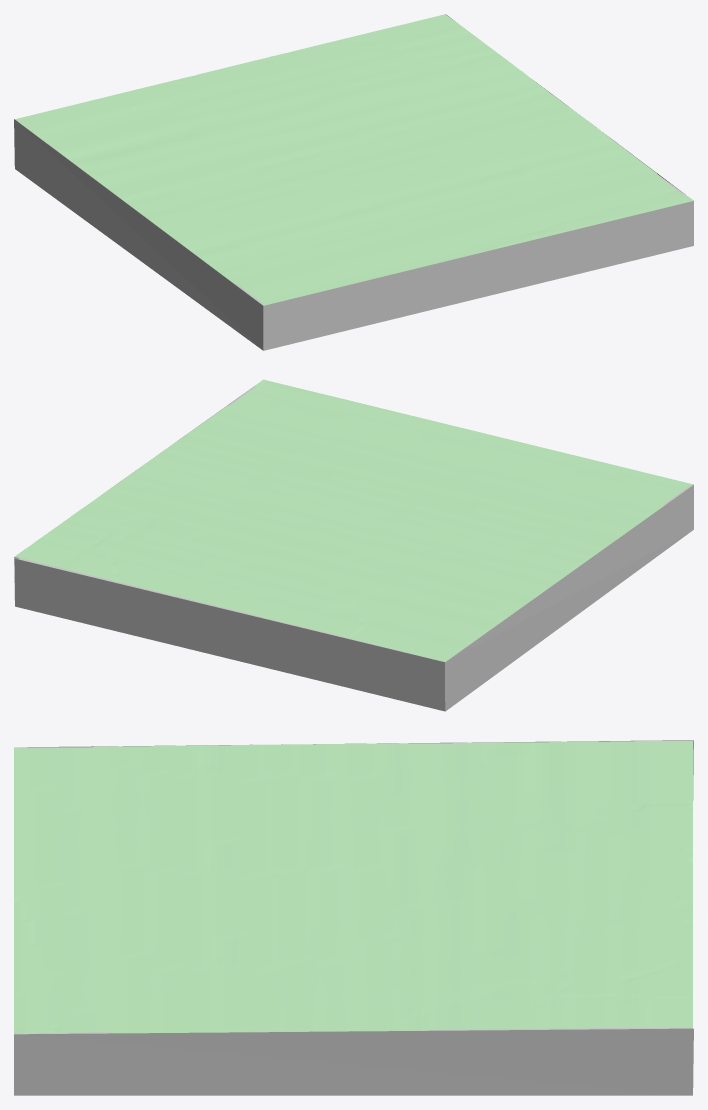
Rendered from map3.dae.
3 views of the same model, one above another, from view 1: azimuth 30°, elevation 25°; view 2: azimuth 150°, elevation 25°; view 3: azimuth 270°, elevation 25° (orthographic). The views are drawn at different scales.
Parts seen in each view (by area): view 1: group_0, SketchUp; view 2: group_0, SketchUp; view 3: group_0, SketchUp.
Part boxes in pixels (left/top/right/bottom): group_0: left=15, top=14, right=693, bottom=305; SketchUp: left=14, top=14, right=693, bottom=350; group_0: left=15, top=379, right=693, bottom=661; SketchUp: left=14, top=385, right=693, bottom=711; group_0: left=14, top=741, right=692, bottom=1033; SketchUp: left=14, top=740, right=693, bottom=1095.
Size of the model in its own units: 20.05 by 20.03 by 2.22.
